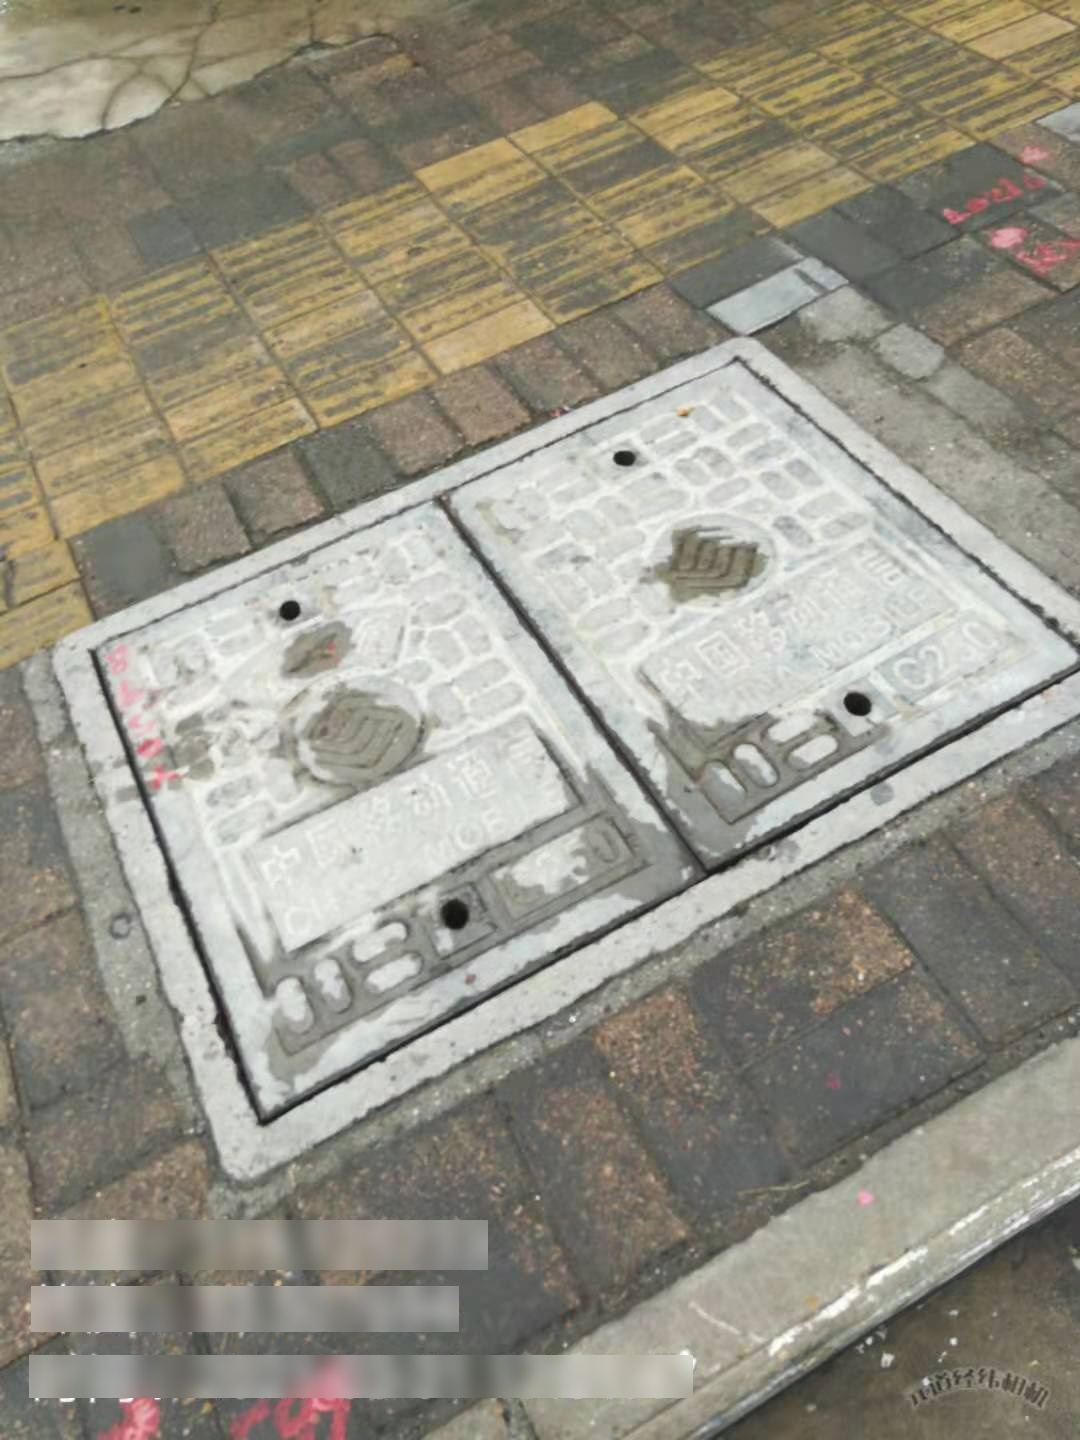good: (52, 338, 1080, 1178)
